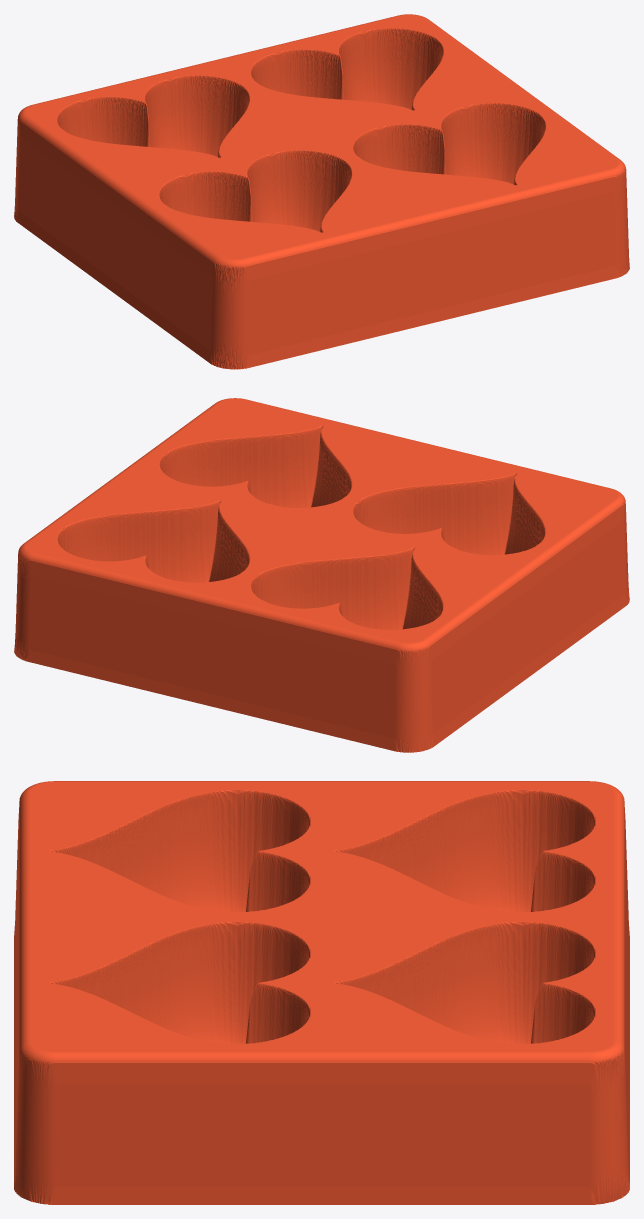
Rendered from mold.glb.
3 views of the same model, one above another, from view 1: azimuth 30°, elevation 25°; view 2: azimuth 150°, elevation 25°; view 3: azimuth 270°, elevation 25° (orthographic). The views are drawn at different scales.
Parts seen in each view (by area): view 1: geometry_0; view 2: geometry_0; view 3: geometry_0.
Part boxes in pixels (x1,y1,x2,y2): geometry_0: [14, 14, 629, 369]; geometry_0: [14, 398, 629, 752]; geometry_0: [14, 781, 629, 1204].
Size of the model in its own units: 0.1493 by 0.036 by 0.1373.
